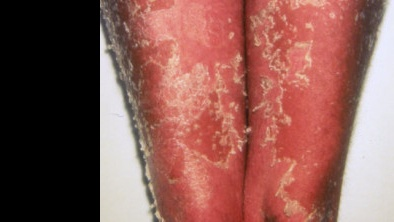SJS-TEN: (99, 0, 391, 222)
